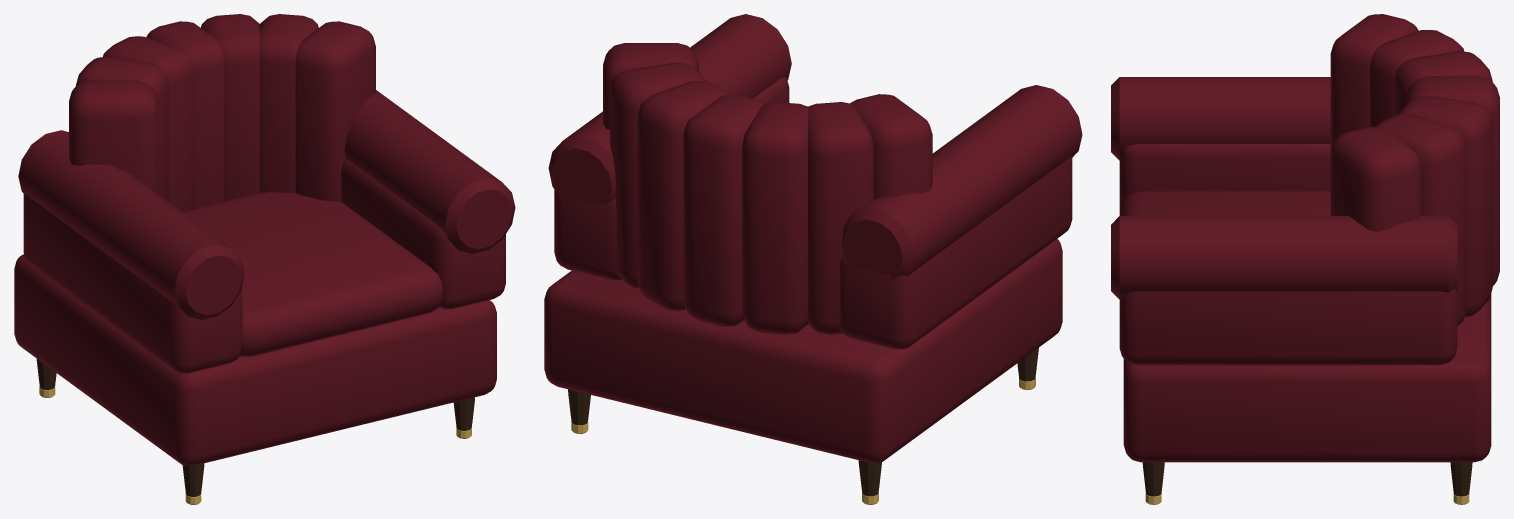
File: armchair.glb
3 renders of one model, left to right at view 1: azimuth 30°, elevation 25°; view 2: azimuth 150°, elevation 25°; view 3: azimuth 270°, elevation 25°, orthographic. The views are drawn at different scales.
Visible parts, largest first — view 1: armchair; view 2: armchair; view 3: armchair.
Part boxes in pixels (x1,y1,x2,y2): armchair: (14, 14, 515, 504); armchair: (544, 14, 1082, 504); armchair: (1111, 14, 1499, 504).
Bounding box in the file's own units: 0.97 × 0.9 × 0.91.
